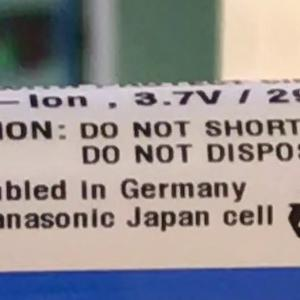keyword: (125, 71, 234, 116)
